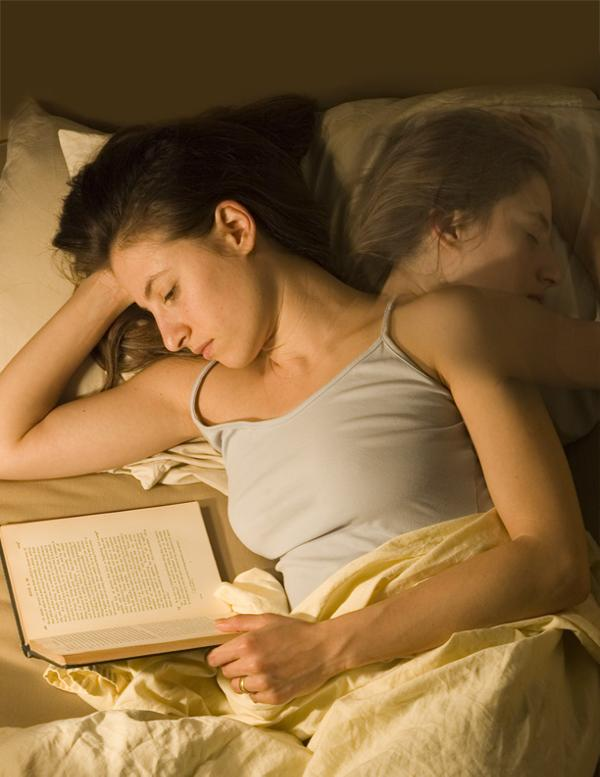person: (1, 118, 594, 777)
